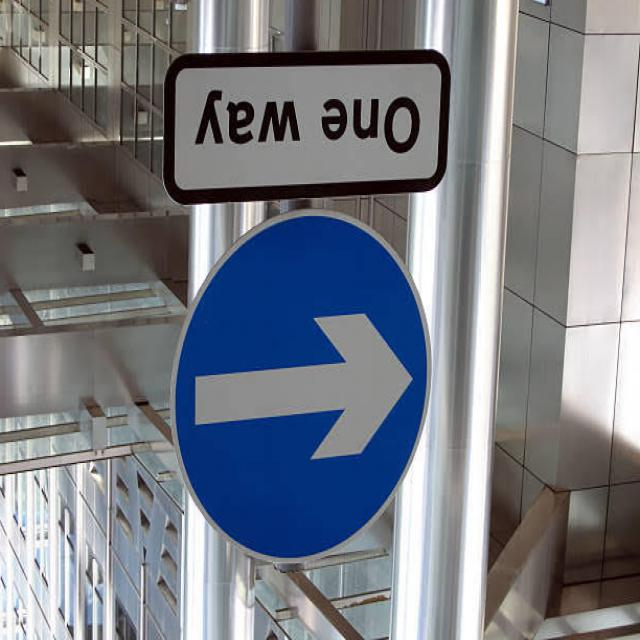Turn Right: (173, 202, 432, 568)
